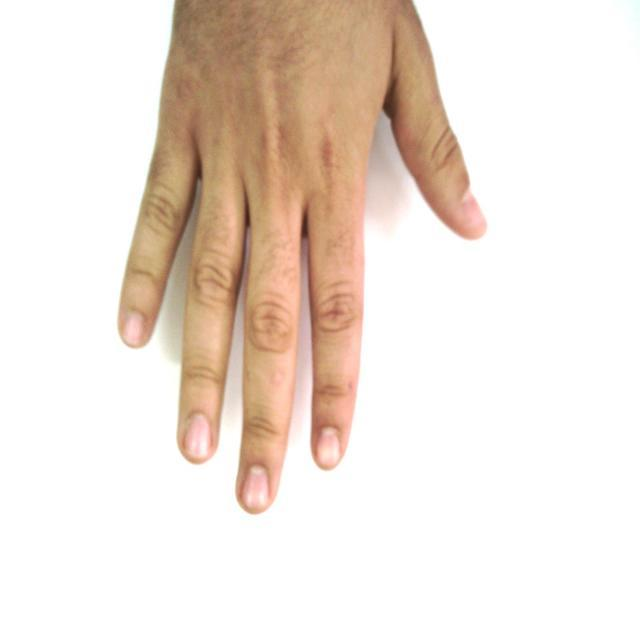Fingernail: (244, 465, 269, 511), (186, 414, 210, 458), (461, 194, 485, 231), (319, 428, 340, 467), (124, 313, 144, 345)
